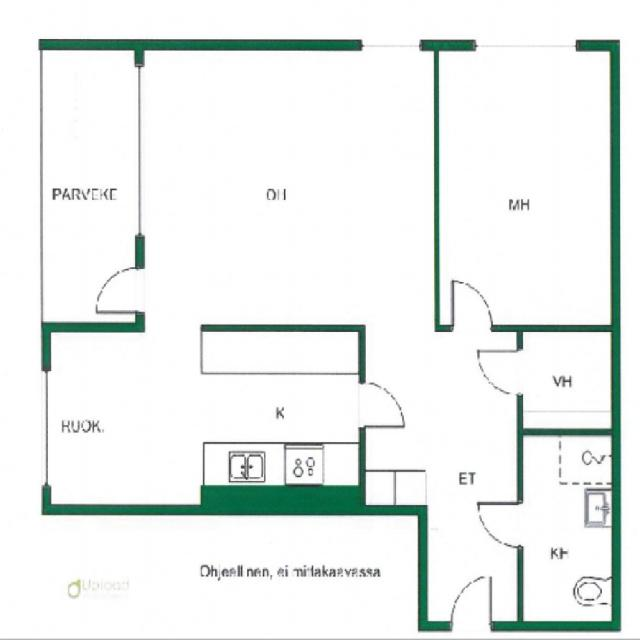door: (97, 268, 145, 312), (452, 578, 491, 632), (453, 282, 492, 332), (479, 351, 523, 394), (359, 383, 403, 426), (480, 503, 523, 546)
